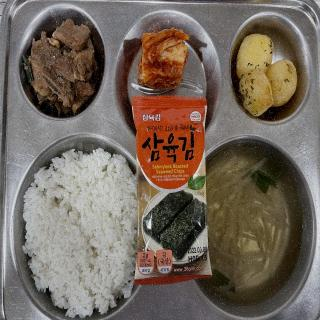Nasi: (18, 152, 126, 316)
